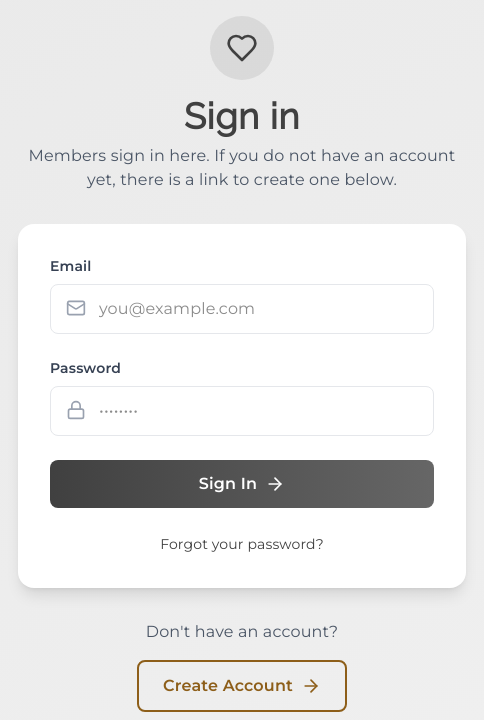
Login › speaks a failed sign-in instead of only showing it - role=alert
This screenshot has width=484, height=720.
Type "rye@example.com" into the field labelled "Email" at (242, 309), box x1=50 y1=284 x2=434 y2=334
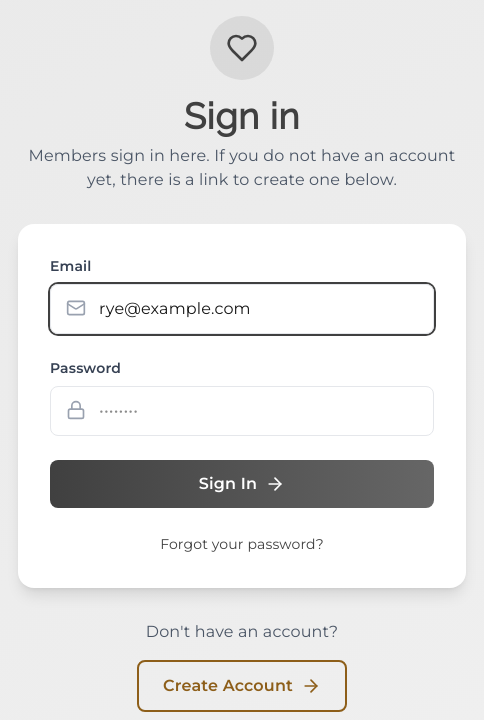
Type "wrong" into the password field labelled "Password" at (242, 411), box x1=50 y1=386 x2=434 y2=436
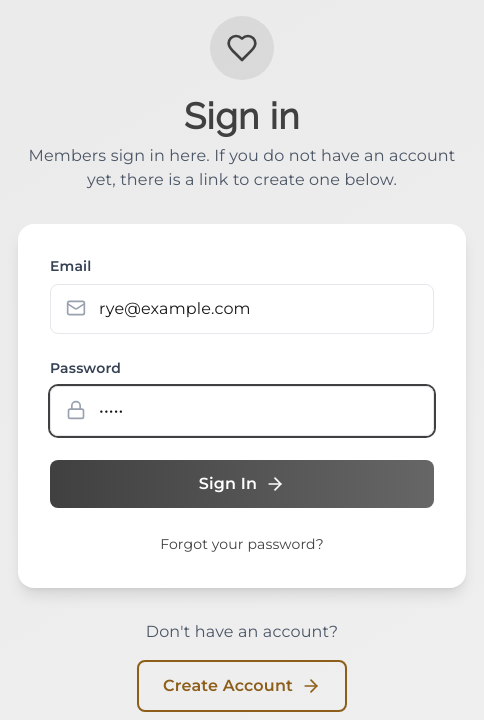
Click the button "Sign In" at (242, 484), box x1=50 y1=460 x2=434 y2=508
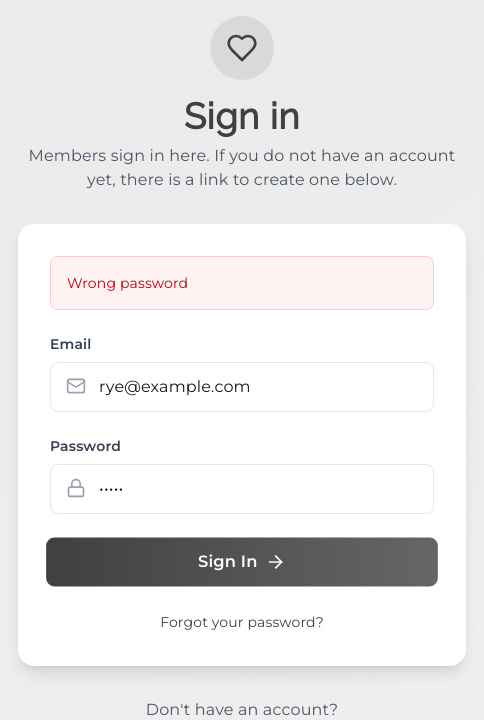
Now the message reads "Wrong password", box x1=67 y1=274 x2=188 y2=292
